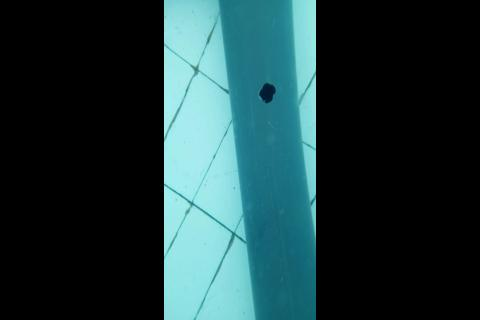kebocoran: (258, 81, 277, 103)
